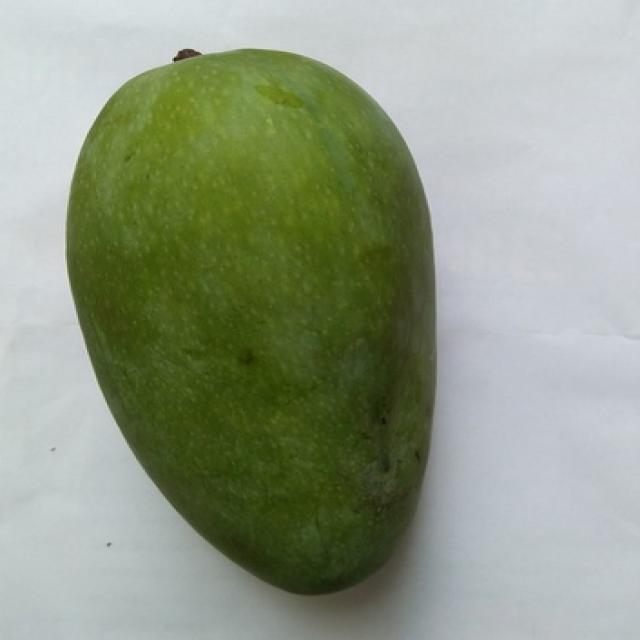Mango: (67, 49, 433, 592)
